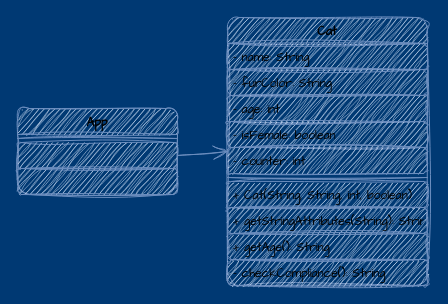
Some shapes in this 448 by 304 pixel diagram are drawn without their labels. Here are the shapes that lost their labels. From the top down, the centre of each, then its label:
point 97,155: + main(String[]): void
point 97,181: - output(String): void
